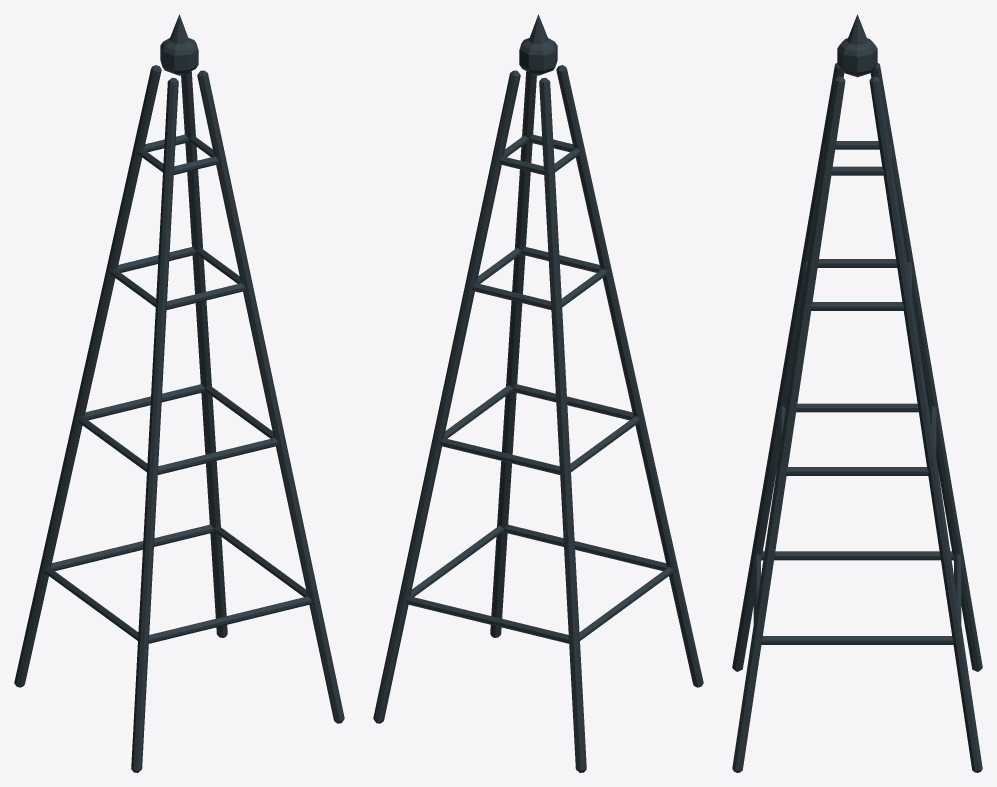
The model's file is b11_garden_obelisk_support.glb.
The picture shows the model from 3 angles, left to right: view 1: azimuth 30°, elevation 25°; view 2: azimuth 150°, elevation 25°; view 3: azimuth 270°, elevation 25°; orthographic projection. The views are drawn at different scales.
Visible parts, largest first — view 1: b11_garden_obelisk_support; view 2: b11_garden_obelisk_support; view 3: b11_garden_obelisk_support.
Part boxes in pixels (x1,y1,x2,y2): b11_garden_obelisk_support: (14, 14, 344, 772); b11_garden_obelisk_support: (373, 14, 703, 772); b11_garden_obelisk_support: (732, 14, 982, 772).
Bounding box in the file's own units: 0.6445 × 2.01 × 0.6445.
